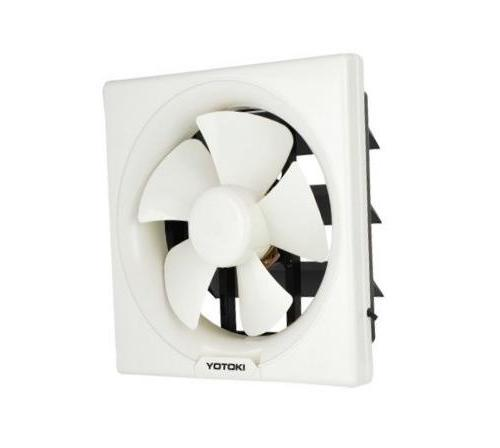fan: (87, 40, 381, 407)
